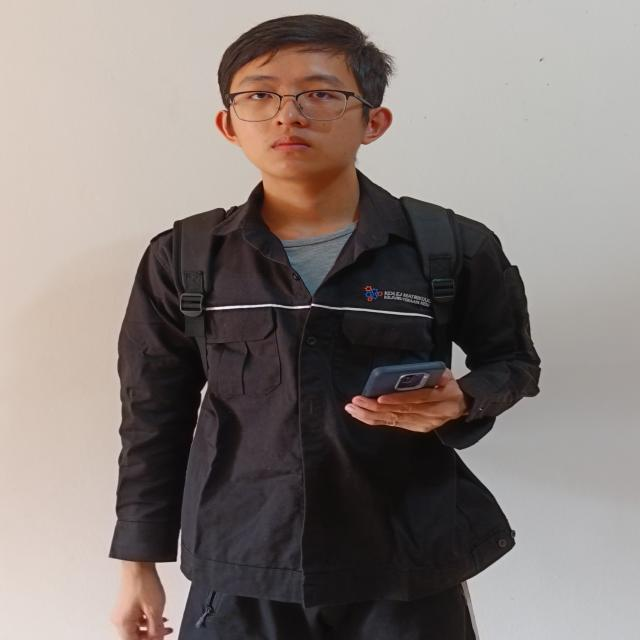person_with_labcoat: (110, 15, 540, 640)
